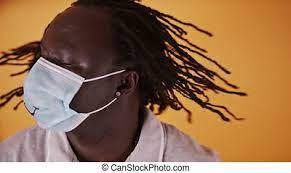OK: (26, 42, 100, 129)
